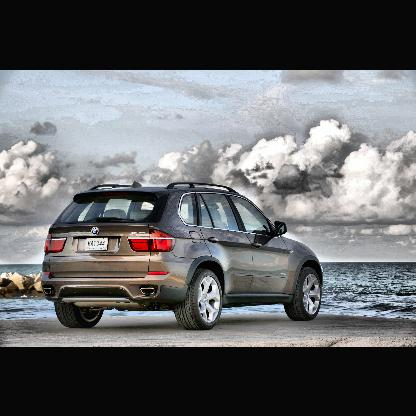BMW X5 SUV 2007: (42, 181, 324, 330)
